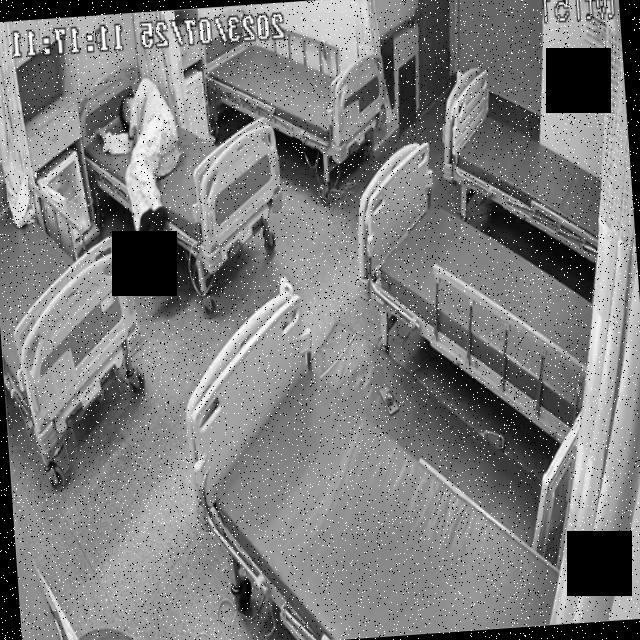bed: (186, 283, 563, 640), (353, 136, 606, 444), (0, 154, 144, 456), (78, 64, 286, 258), (436, 59, 608, 267), (202, 12, 385, 170)
danger: (101, 70, 188, 244)
patient: (100, 70, 188, 244)
